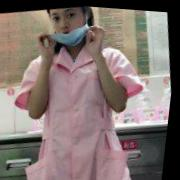WRONG: (47, 4, 93, 51)
